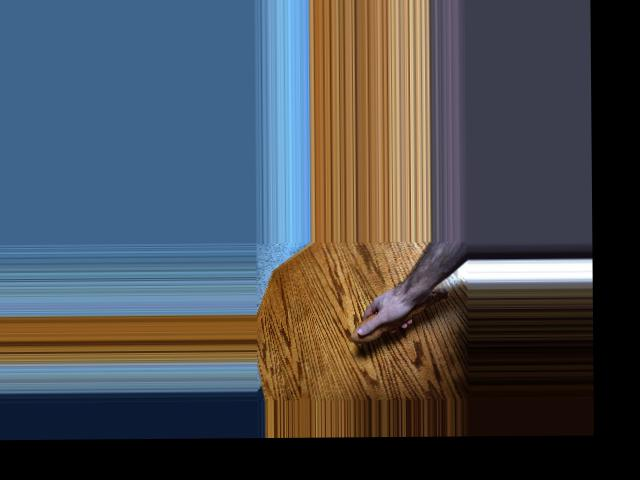sweet_potato: (354, 286, 451, 341)
